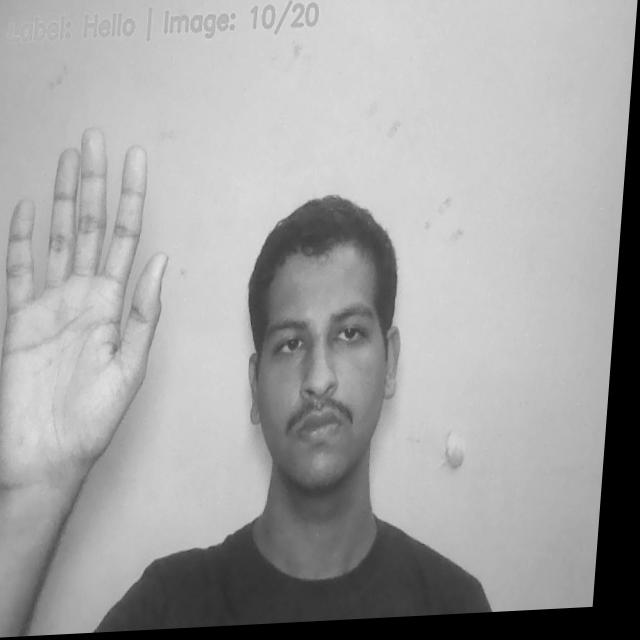Hello: (1, 125, 177, 473)
